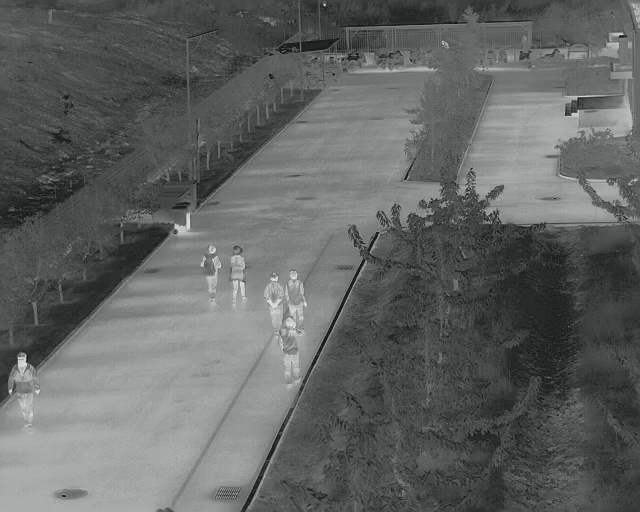person: (7, 350, 42, 432), (278, 314, 304, 388), (228, 244, 249, 308), (200, 243, 221, 306), (283, 268, 310, 313), (261, 270, 285, 317)
